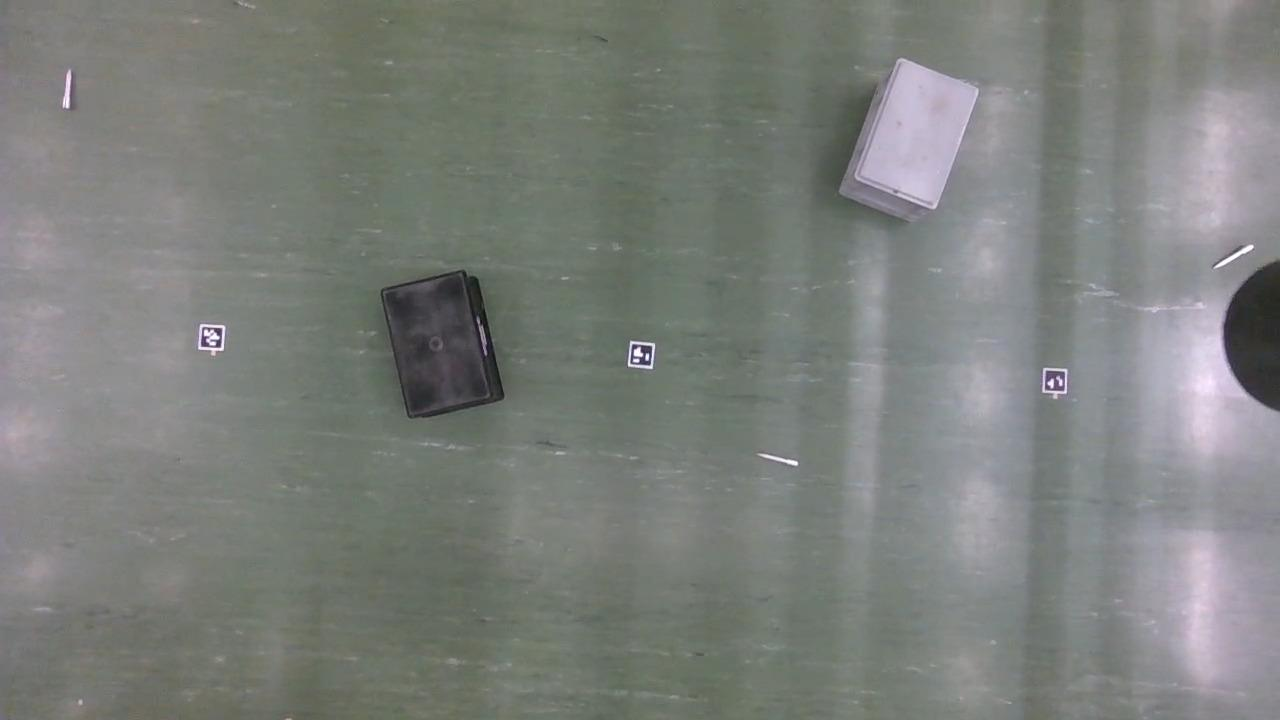probes: (1215, 246, 1254, 270), (760, 453, 797, 468), (64, 71, 73, 111)
rako: (836, 59, 980, 227), (380, 273, 505, 421)
